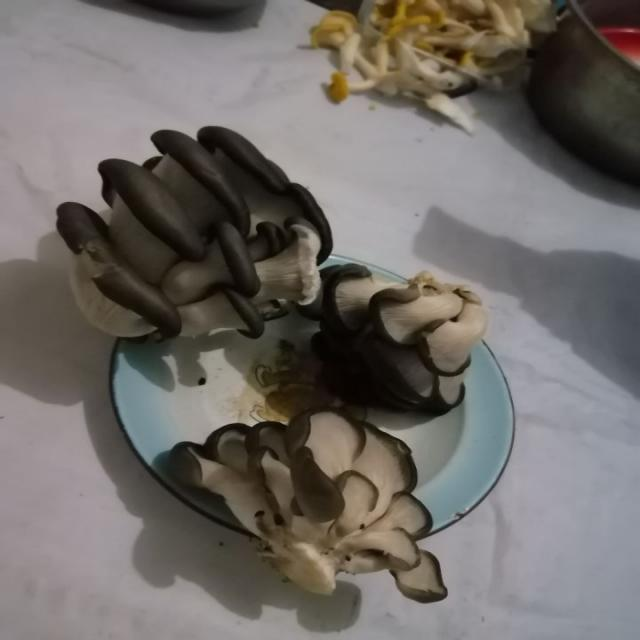Pleurotus ostreatus: (56, 125, 333, 339), (170, 404, 447, 604), (315, 264, 482, 414)
